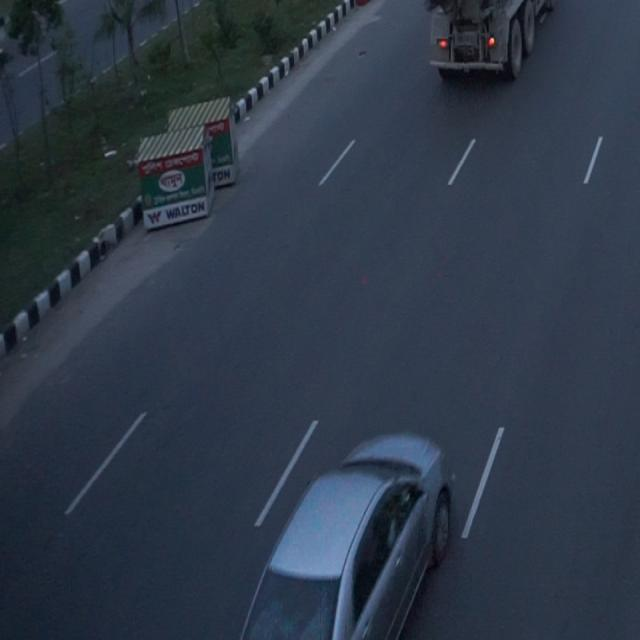van: (409, 0, 571, 91)
